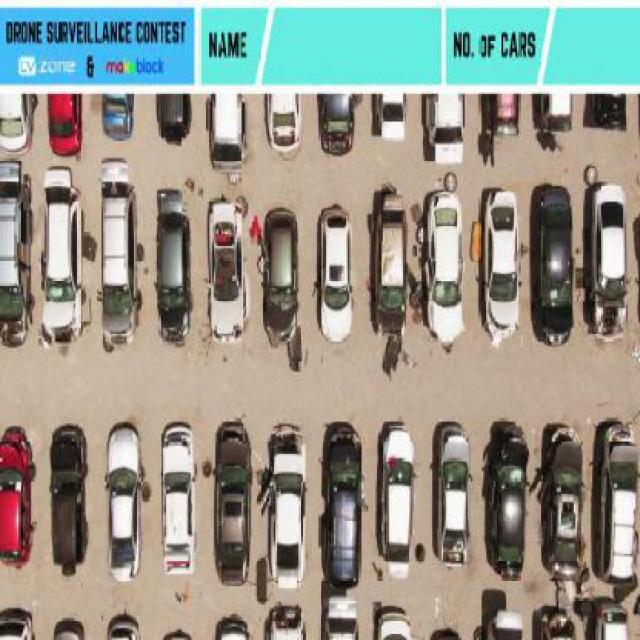car: (322, 422, 367, 586), (208, 419, 252, 586), (534, 183, 578, 347), (99, 178, 142, 344), (539, 424, 585, 578), (155, 185, 199, 344), (589, 183, 633, 339), (40, 176, 81, 341), (600, 419, 640, 588), (104, 422, 145, 586), (424, 185, 465, 343), (484, 425, 526, 578), (48, 424, 91, 572), (481, 184, 522, 337), (269, 423, 307, 588), (205, 200, 248, 344), (161, 421, 201, 575), (378, 422, 417, 579), (368, 188, 406, 343), (0, 163, 31, 342), (432, 422, 470, 568), (260, 208, 300, 344), (0, 425, 37, 564), (317, 203, 354, 339), (206, 90, 250, 169), (318, 91, 362, 155), (423, 91, 466, 154), (263, 90, 305, 152), (48, 90, 86, 153), (321, 590, 363, 640), (156, 92, 194, 146), (0, 93, 32, 155), (585, 90, 631, 130), (371, 89, 407, 139), (99, 91, 135, 138), (593, 600, 633, 640), (264, 603, 307, 640), (485, 92, 522, 134), (533, 603, 575, 640), (540, 92, 576, 134), (373, 605, 411, 640), (487, 609, 525, 640), (0, 606, 35, 639), (211, 612, 251, 640), (103, 611, 140, 640), (49, 616, 88, 640), (425, 626, 461, 640), (161, 627, 197, 640)
